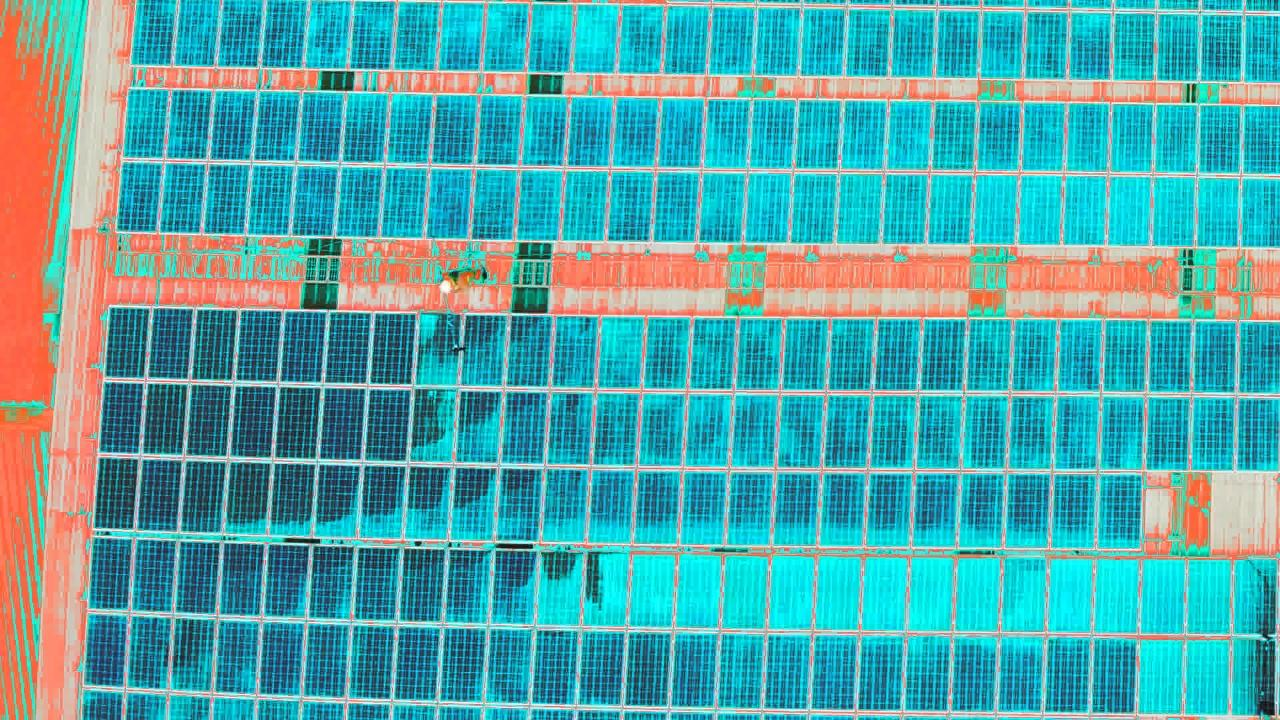clean: (101, 308, 414, 460), (98, 455, 228, 531)
dirty: (124, 89, 1280, 253), (421, 315, 1140, 539), (493, 546, 1280, 718), (138, 1, 1280, 85), (1151, 327, 1279, 473), (221, 459, 412, 542)
semi: (91, 534, 486, 718)
